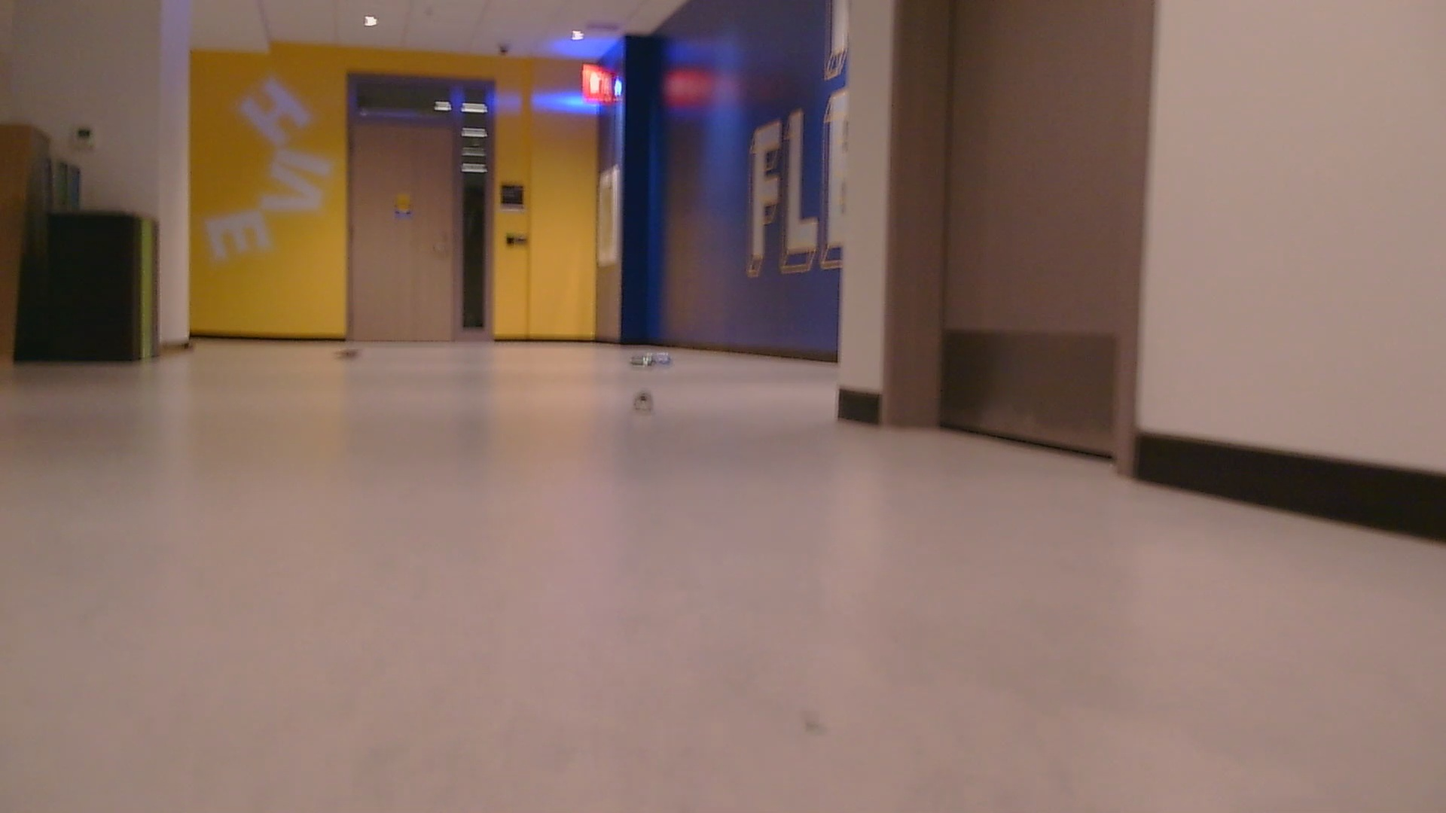carton: (628, 382, 667, 405), (628, 345, 669, 366), (330, 346, 368, 364)
